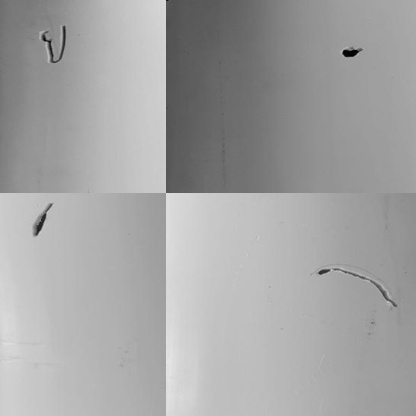fengxi: (316, 264, 398, 314), (37, 20, 79, 66)
kongdong: (28, 202, 61, 239), (342, 44, 364, 61)
